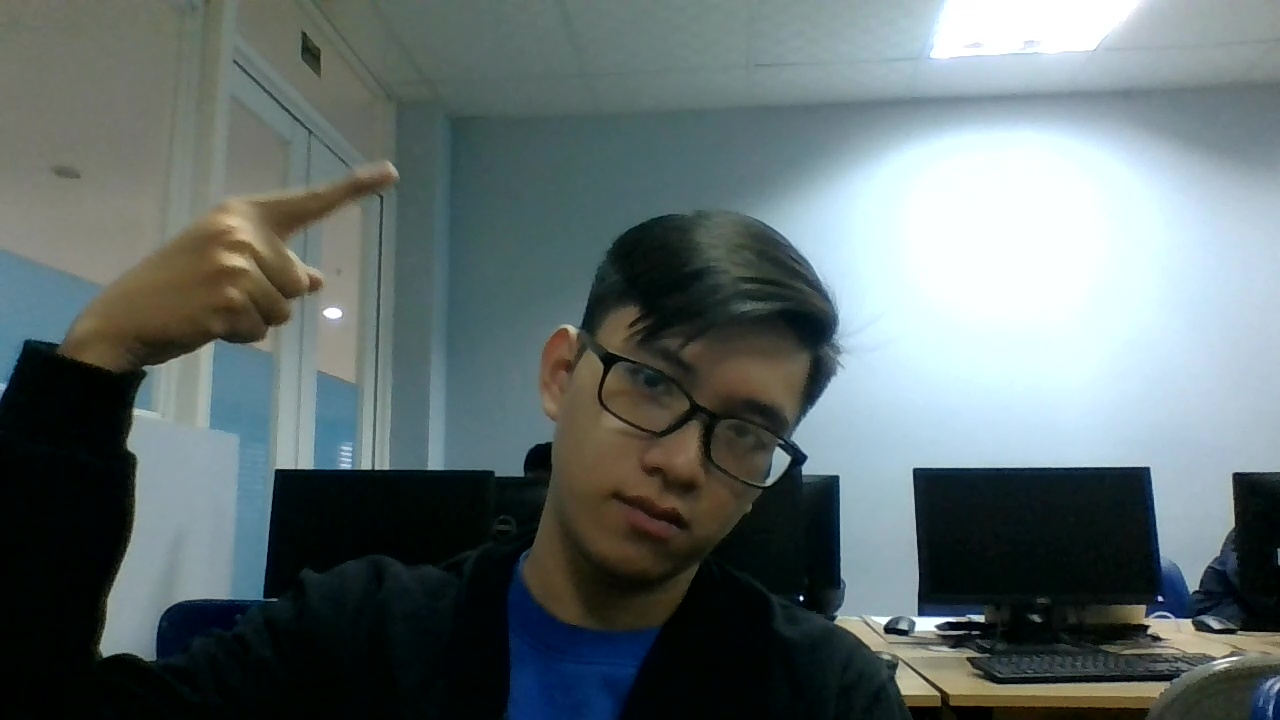left: (114, 156, 403, 374)
